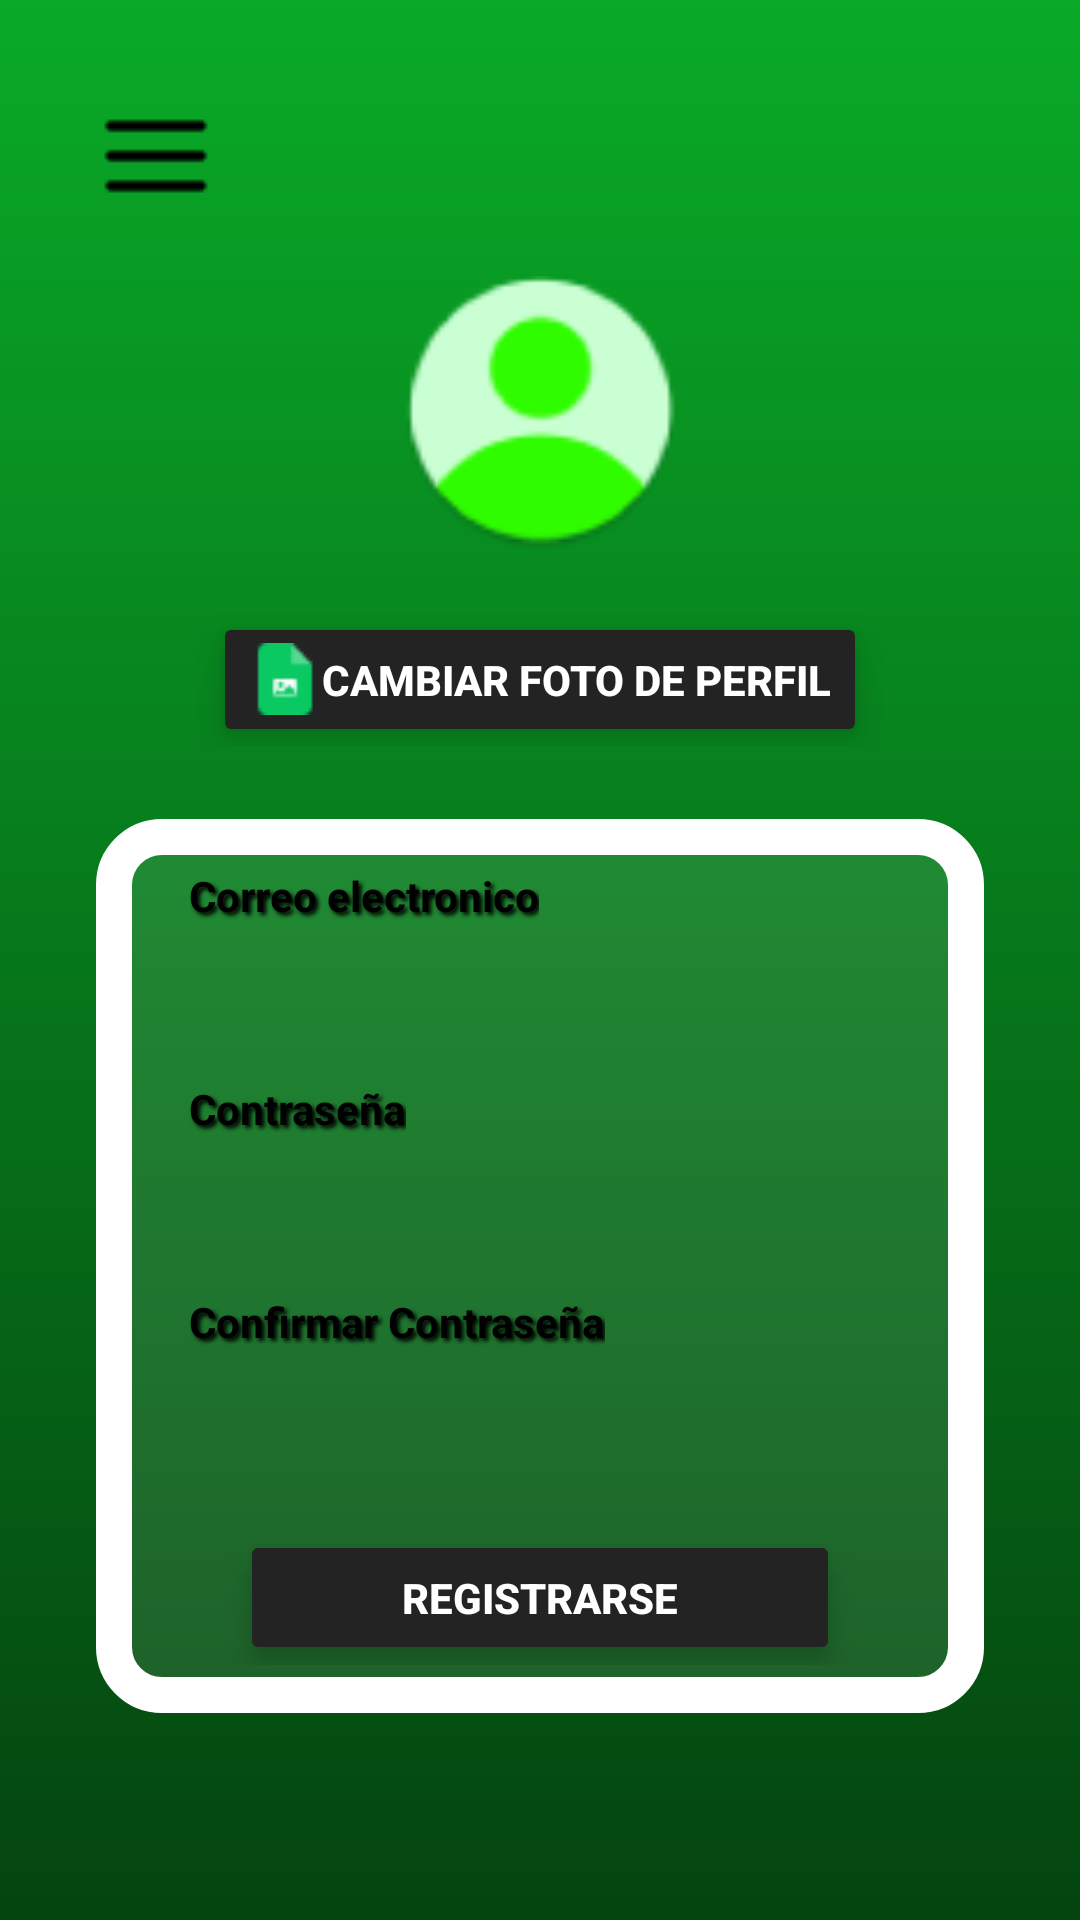

Locate icon controls on the screen. Image size 1080px x 1920px, boxes as (x1, y1, x2, y2).
Menú: (104, 119, 208, 193)
